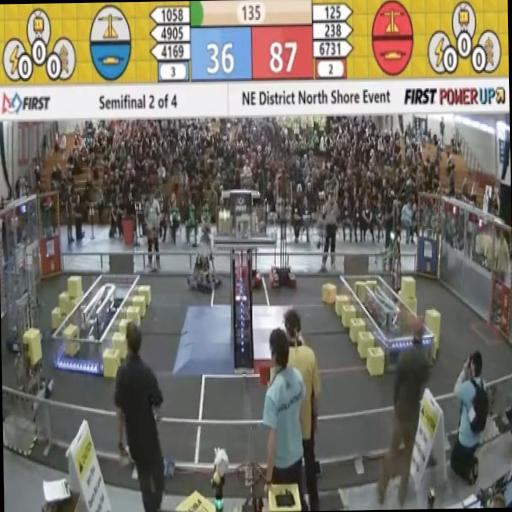robot: (3, 293, 56, 415), (4, 242, 40, 356), (184, 217, 224, 295), (265, 192, 297, 288), (370, 224, 406, 308), (230, 210, 264, 290)
